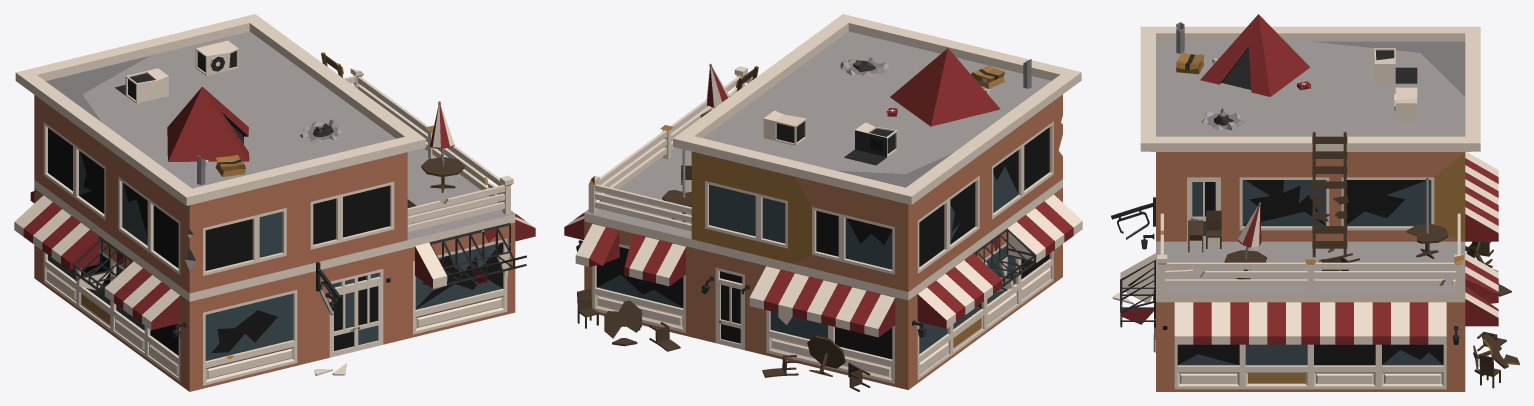
File: apocalypse_building-restaurant-apocalypse.fbx
3 views of the same model, side by side, from view 1: azimuth 30°, elevation 25°; view 2: azimuth 150°, elevation 25°; view 3: azimuth 270°, elevation 25° (orthographic).
Parts seen in each view (by area): view 1: apocalypse_building_restaurant_apocalypse; view 2: apocalypse_building_restaurant_apocalypse; view 3: apocalypse_building_restaurant_apocalypse.
Part boxes in pixels (x1,y1,x2,y2): apocalypse_building_restaurant_apocalypse: [14, 14, 535, 391]; apocalypse_building_restaurant_apocalypse: [564, 14, 1082, 391]; apocalypse_building_restaurant_apocalypse: [1111, 14, 1519, 391].
Size of the model in its own units: 200 by 125 by 184.
